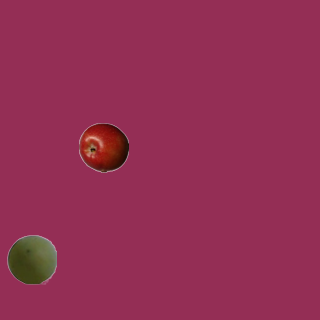Apple Braeburn: (78, 122, 128, 172)
Grape White 4: (6, 234, 56, 284)
